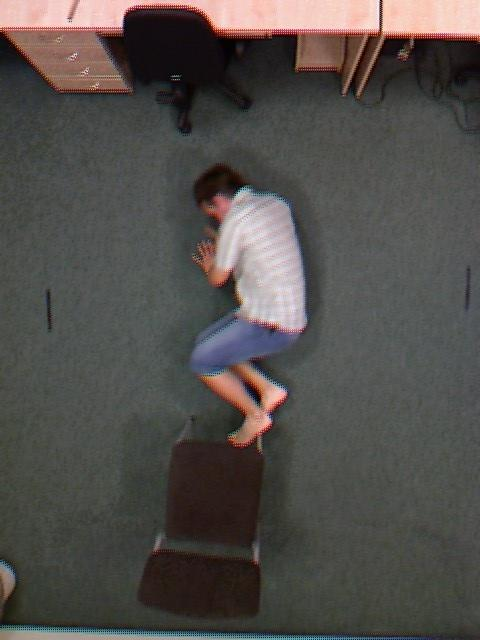fall: (118, 213, 362, 411)
